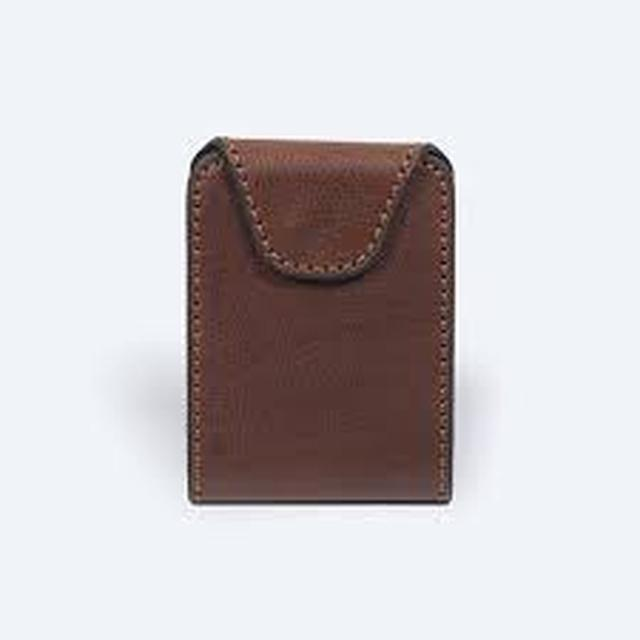wallet: (155, 126, 512, 535)
